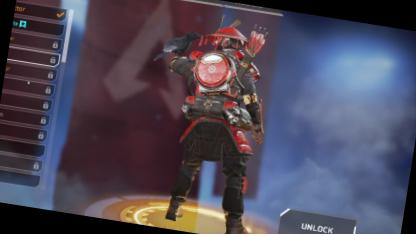Target: (165, 9, 270, 210)
